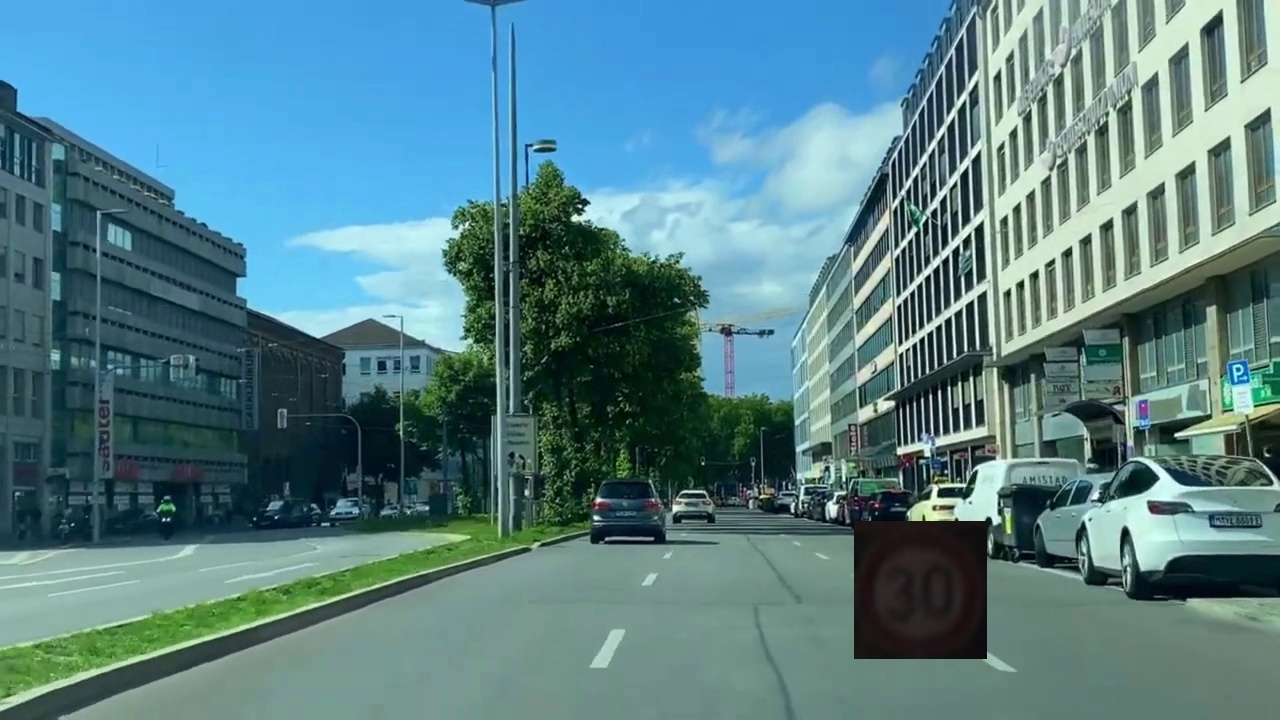Speed 30: (854, 521, 987, 659)
